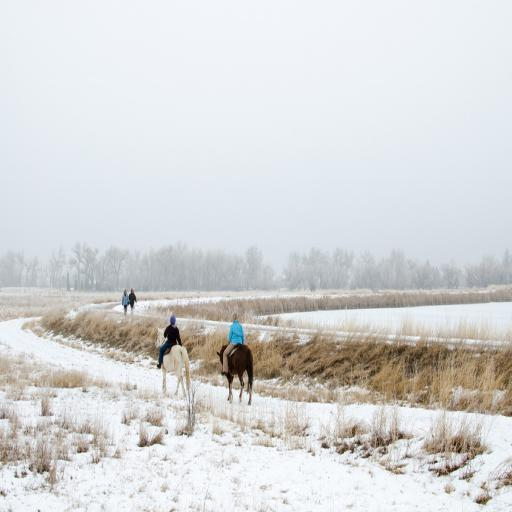horse: (154, 325, 192, 399), (216, 343, 256, 406)
